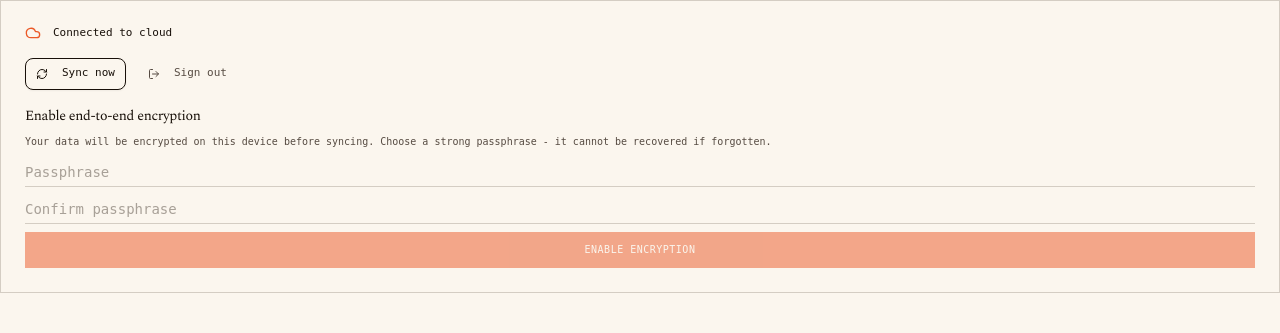
it: E2E setup form › blocks submission when passphrases do not match
Type "abc" into the password field with placeholder "Passphrase". click: (640, 172)
box: [25,158,1255,187]
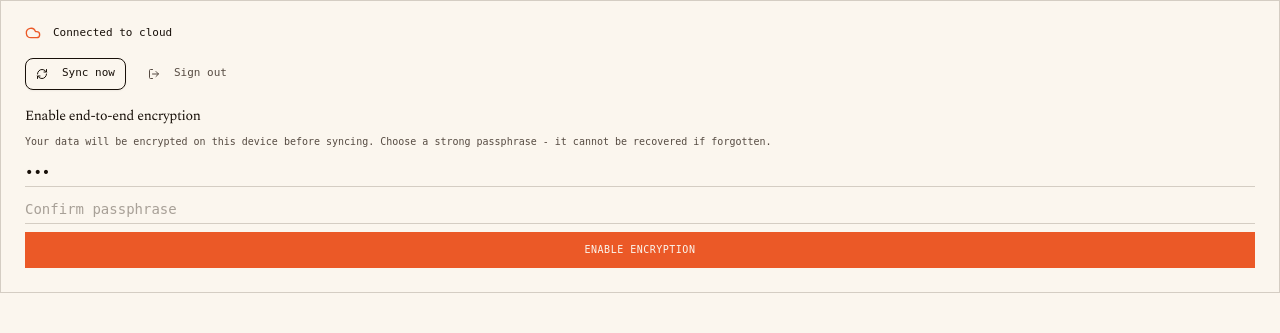
Type "xyz" into the password field with placeholder "Confirm passphrase". click: (640, 209)
box: [25,195,1255,224]
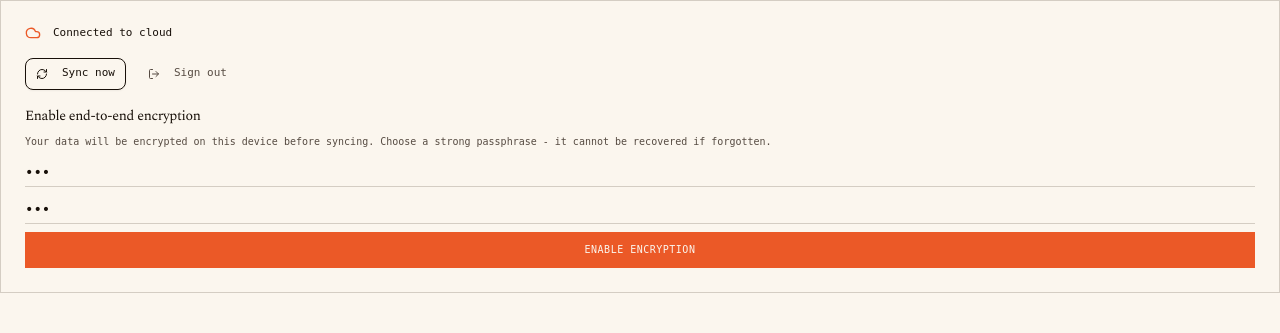
Click the button "Enable encryption". click: (640, 250)
box: [25,232,1255,268]
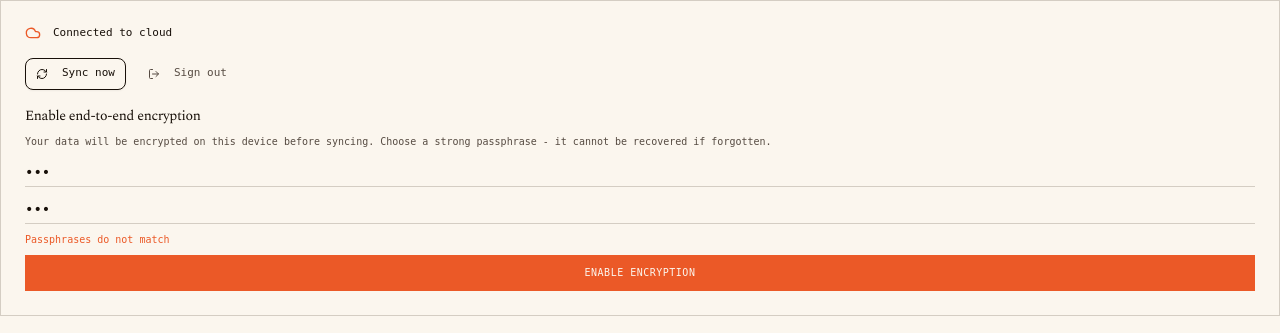
Expected: the text "Passphrases do not match" is shown, [25,234,170,245]
